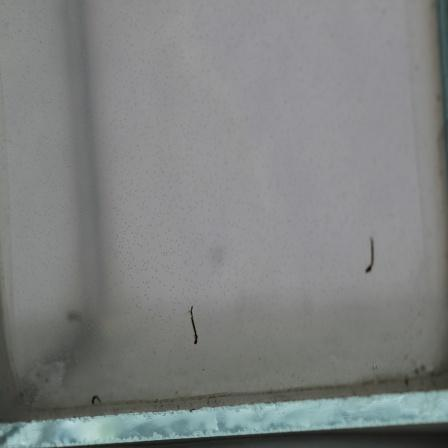Jentik-Nyamuk: (359, 234, 381, 277), (186, 300, 203, 347)
